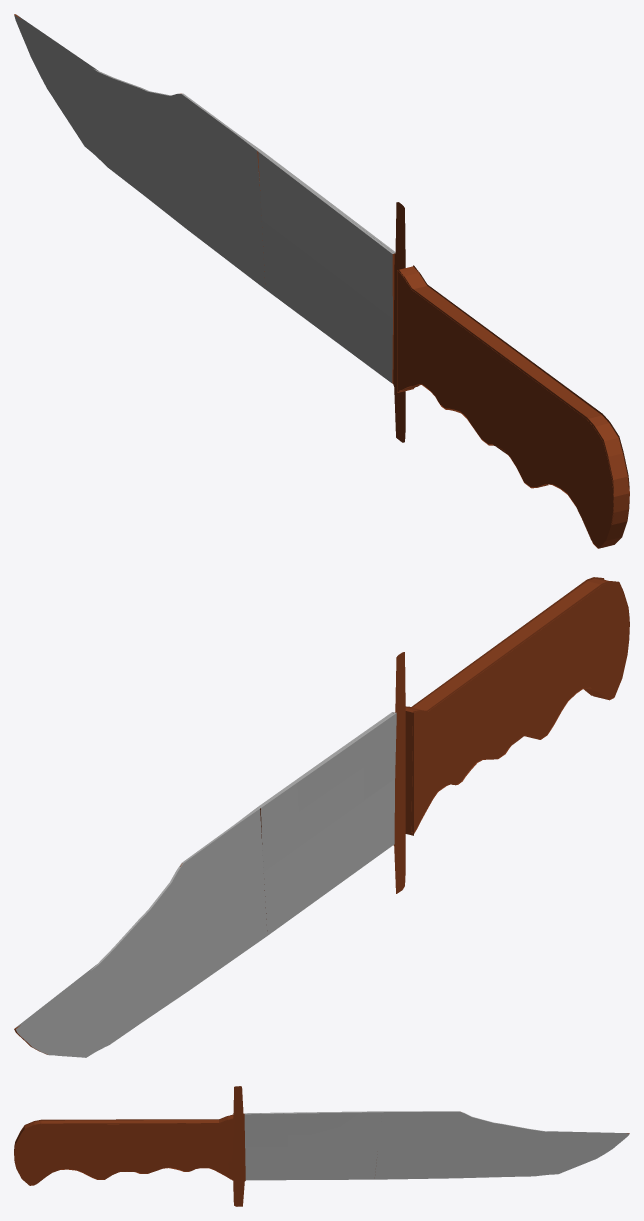
Rendered from knife2.fbx.
3 renders of one model, top to bottom at view 1: azimuth 30°, elevation 25°; view 2: azimuth 150°, elevation 25°; view 3: azimuth 270°, elevation 25°, orthographic. The views are drawn at different scales.
Visible parts, largest first — view 1: Plane; view 2: Plane; view 3: Plane.
Boxes of the visible parts, x1,y1,x2,y2 form: Plane: [14, 14, 629, 548]; Plane: [14, 577, 629, 1057]; Plane: [14, 1086, 629, 1206].
Bounding box in the file's own units: 15.03 × 206 × 952.
